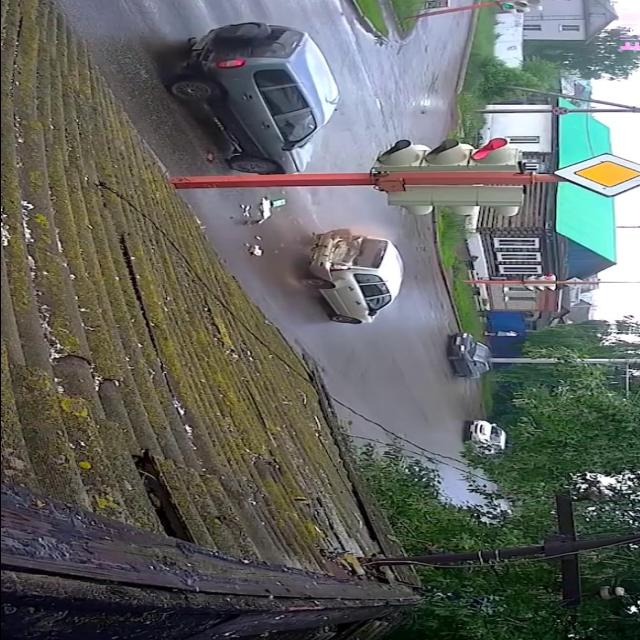accident: (273, 217, 407, 327)
